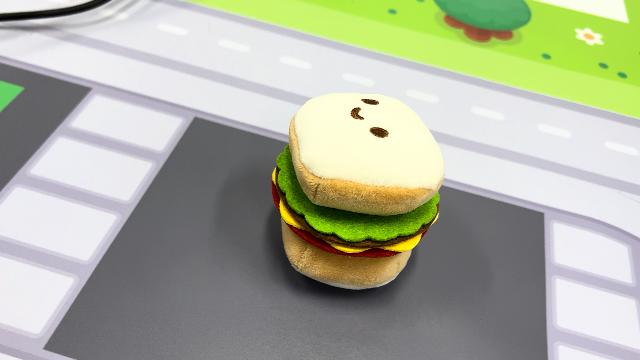sandwich: (268, 88, 446, 292)
